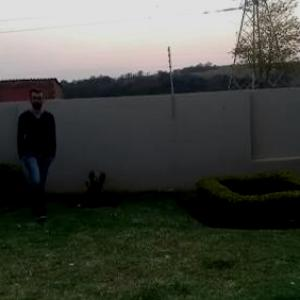follow: (17, 90, 68, 206)
